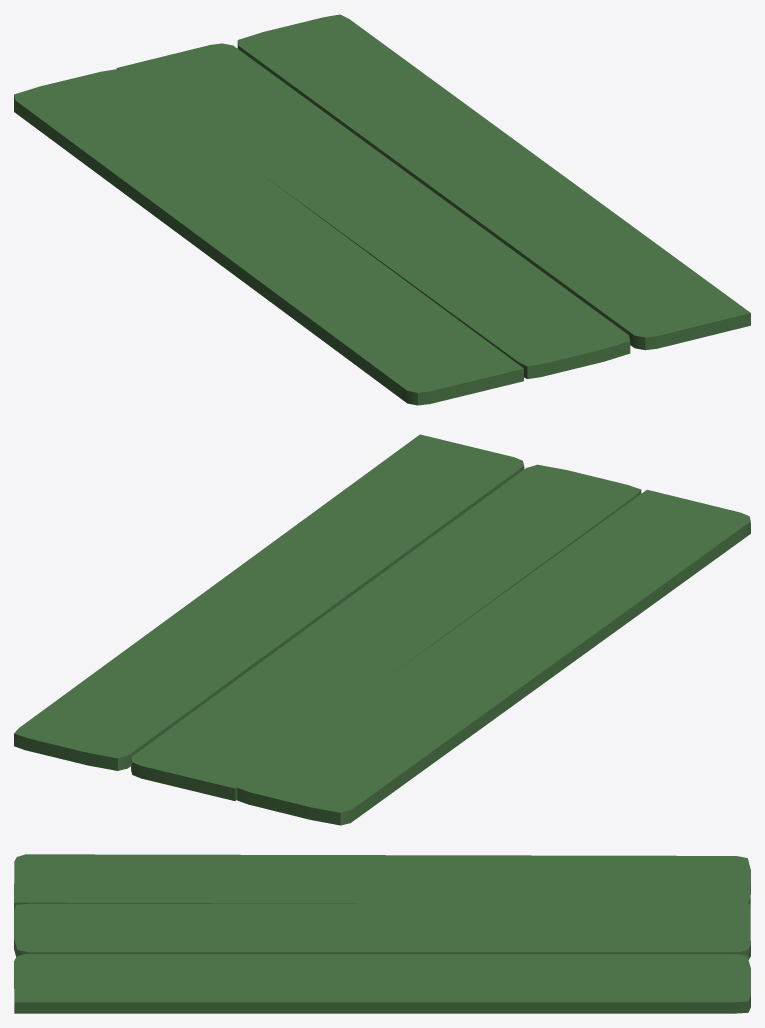
The model's file is Shelf_Grp_03A_Lod0.fbx.
3 renders of one model, top to bottom at view 1: azimuth 30°, elevation 25°; view 2: azimuth 150°, elevation 25°; view 3: azimuth 270°, elevation 25°, orthographic. The views are drawn at different scales.
Visible parts, largest first — view 1: Shelf_Grp_03A_Lod0; view 2: Shelf_Grp_03A_Lod0; view 3: Shelf_Grp_03A_Lod0.
Part boxes in pixels (<box>): Shelf_Grp_03A_Lod0: <box>14,14,750,405</box>; Shelf_Grp_03A_Lod0: <box>14,434,750,825</box>; Shelf_Grp_03A_Lod0: <box>14,854,750,1013</box>.
Bounding box in the file's own units: 105 × 3.75 × 220.
